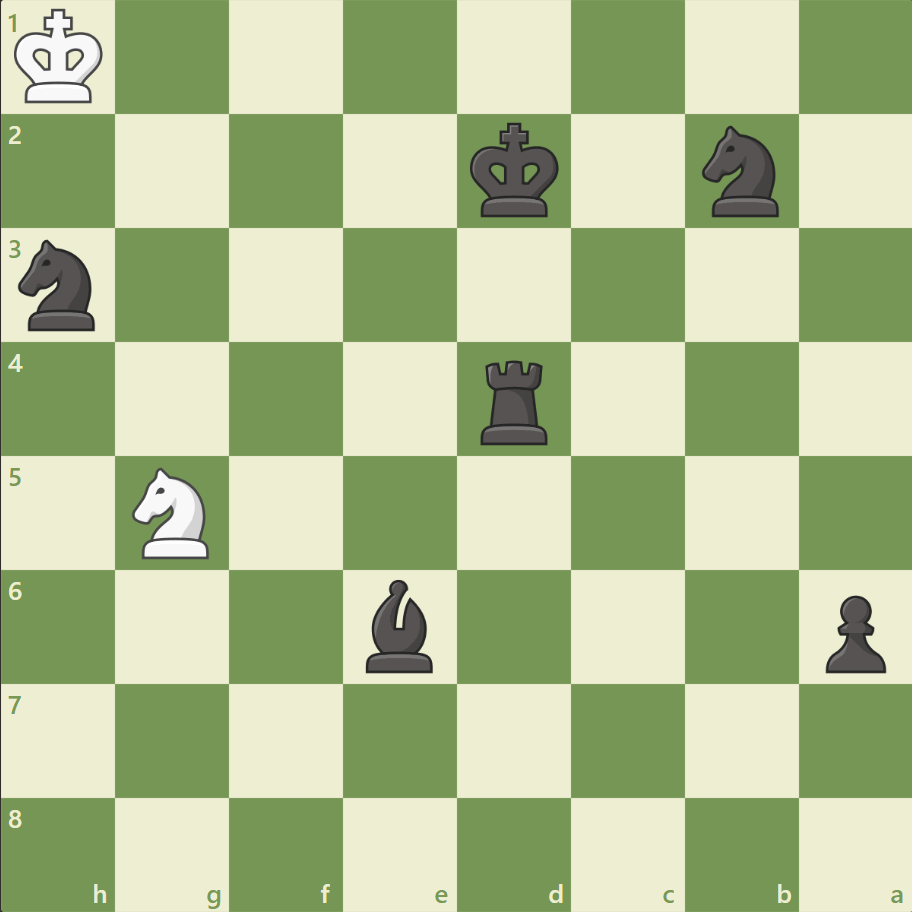K: (11, 4, 111, 112)
N: (124, 461, 222, 564)
b: (358, 574, 442, 676)
k: (465, 117, 565, 225)
n: (11, 234, 108, 337), (692, 121, 789, 223)
p: (815, 586, 889, 677)
r: (473, 352, 556, 449)
